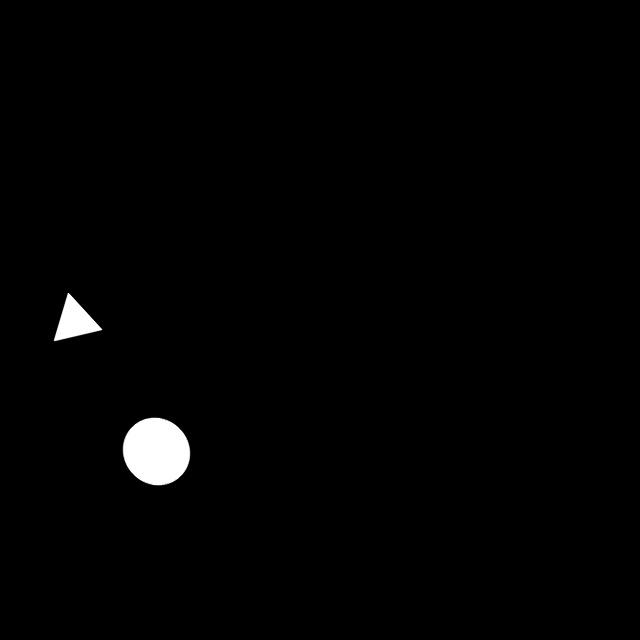Circle: (112, 406, 201, 498)
Triangle: (39, 282, 117, 356)
